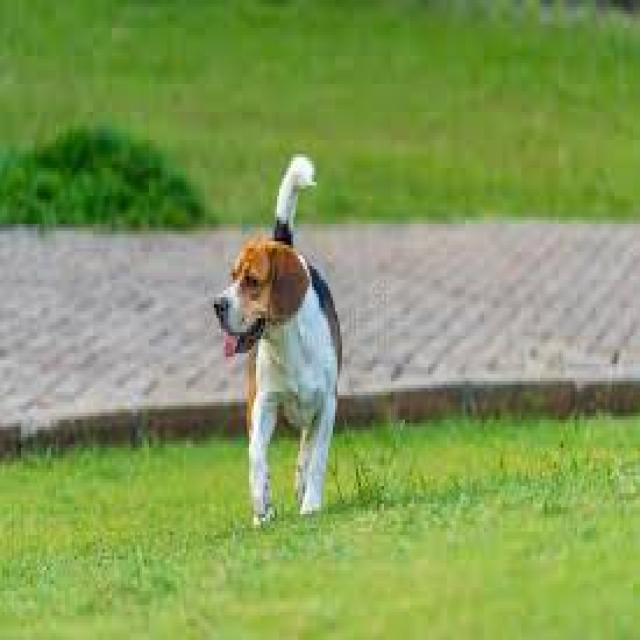Dog: (210, 138, 346, 536)
